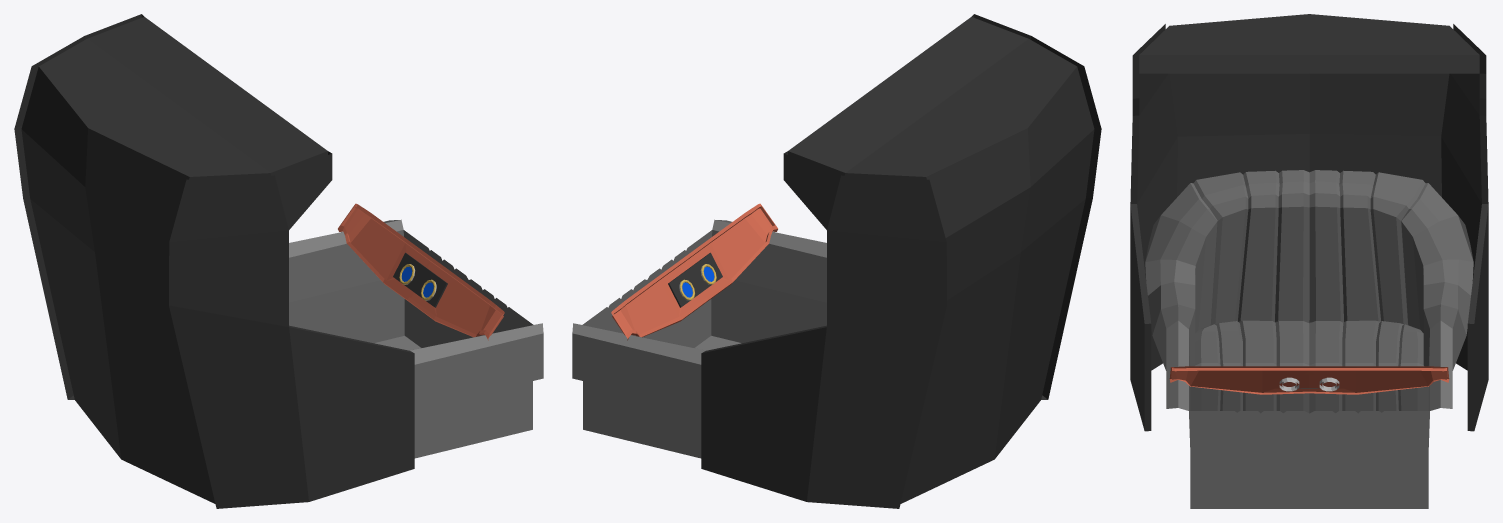
The model's file is Car Low Poly.fbx.
3 views of the same model, side by side, from view 1: azimuth 30°, elevation 25°; view 2: azimuth 150°, elevation 25°; view 3: azimuth 270°, elevation 25° (orthographic). The views are drawn at different scales.
Visible parts, largest first — view 1: Car_Back, Car_Seat, Car_Dashboard; view 2: Car_Back, Car_Seat, Car_Dashboard; view 3: Car_Seat, Car_Back, Car_Dashboard.
Part boxes in pixels (x1,y1,x2,y2): Car_Back: (14, 14, 414, 508); Car_Seat: (289, 219, 543, 458); Car_Dashboard: (338, 203, 504, 340); Car_Back: (701, 14, 1101, 508); Car_Seat: (572, 219, 826, 458); Car_Dashboard: (611, 203, 777, 340); Car_Seat: (1145, 170, 1473, 508); Car_Back: (1130, 14, 1488, 431); Car_Dashboard: (1169, 366, 1449, 394).
Bounding box in the file's own units: 481 × 423 × 416.
